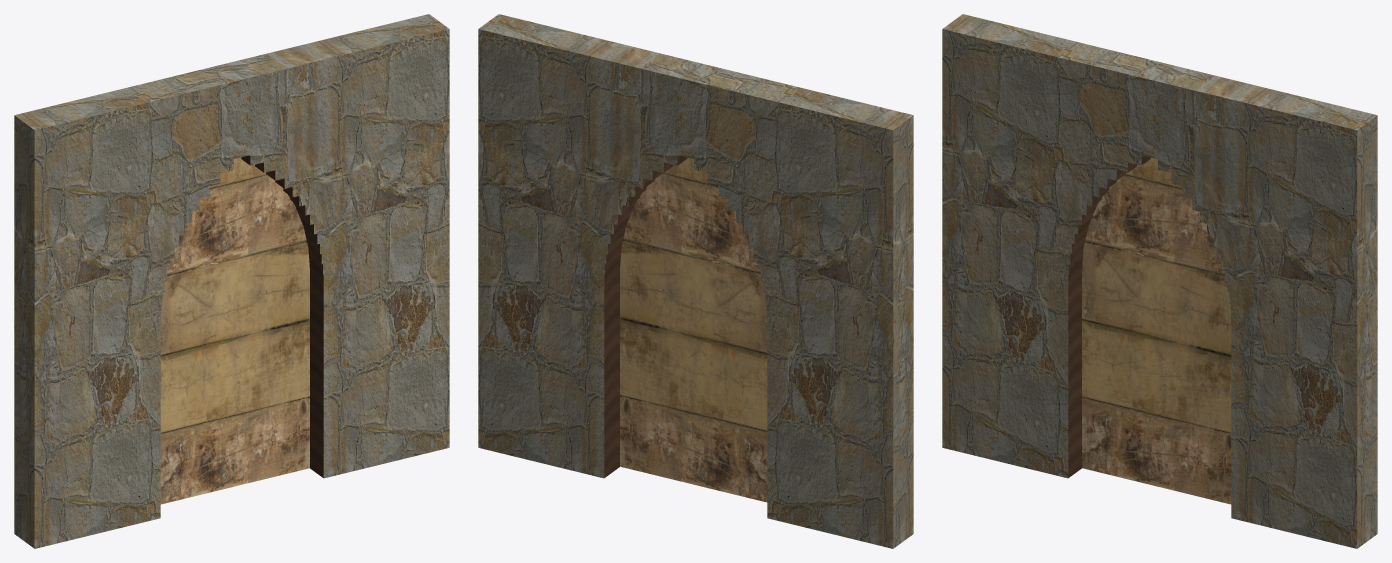
Rendered from opening_arch_door.glb.
3 renders of one model, left to right at view 1: azimuth 30°, elevation 25°; view 2: azimuth 150°, elevation 25°; view 3: azimuth 330°, elevation 25°, orthographic.
Parts seen in each view (by area): view 1: opening_arch_door_0; view 2: opening_arch_door_0; view 3: opening_arch_door_0.
Boxes of the visible parts, bbox=[...] form: opening_arch_door_0: bbox=[14, 14, 449, 548]; opening_arch_door_0: bbox=[478, 14, 913, 548]; opening_arch_door_0: bbox=[942, 14, 1377, 548].
Bounding box in the file's own units: 2.8 × 2.7 × 0.24.
Materials: 3 (3 with a texture image).
